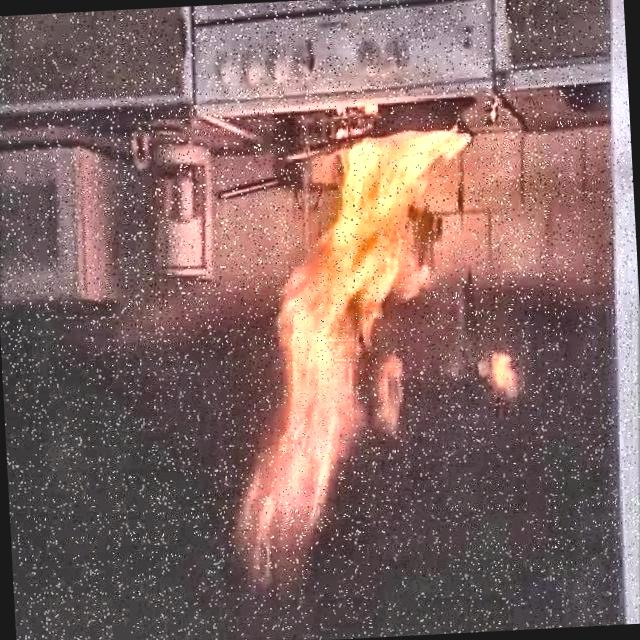fire: (201, 73, 560, 582)
